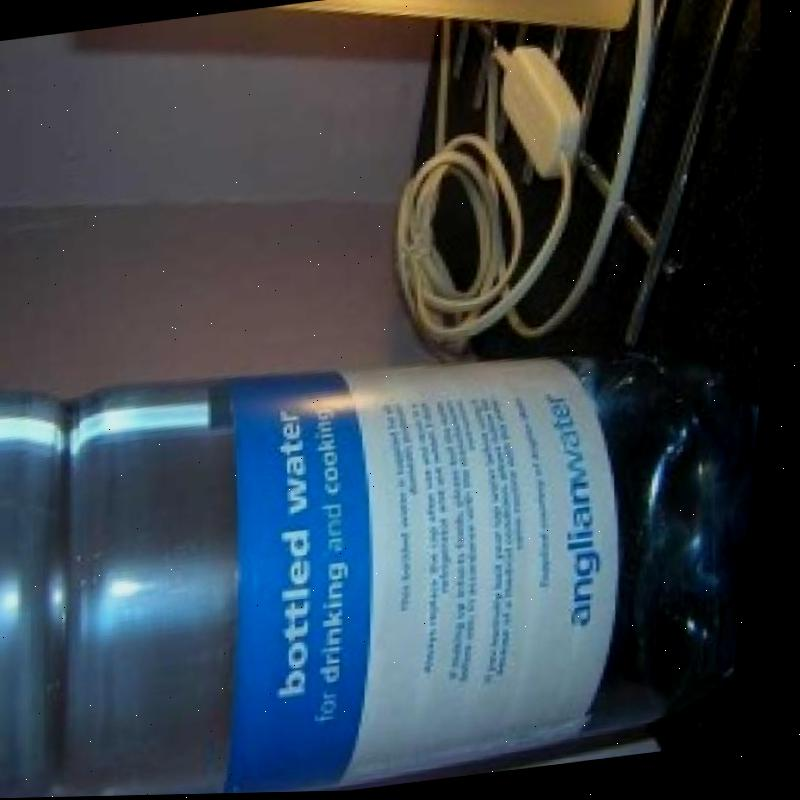botella: (0, 292, 777, 800)
